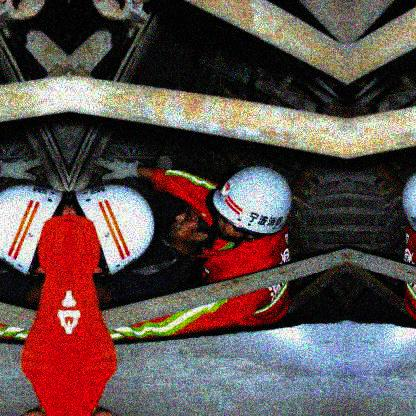helmet: (211, 167, 292, 245)
